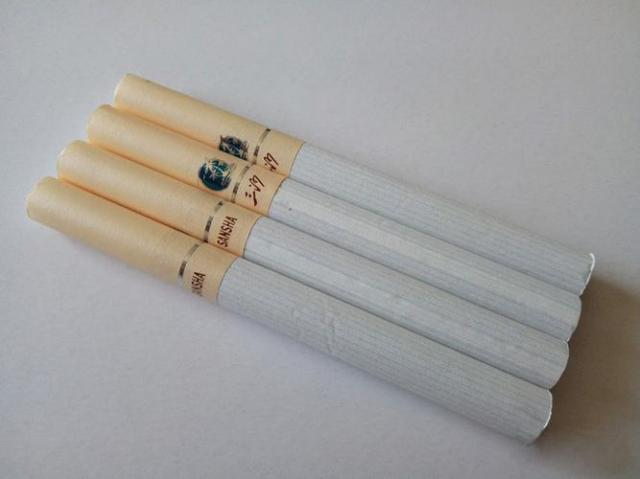Smoking: (26, 176, 554, 447), (57, 138, 571, 392), (88, 102, 584, 344), (112, 71, 598, 297)
